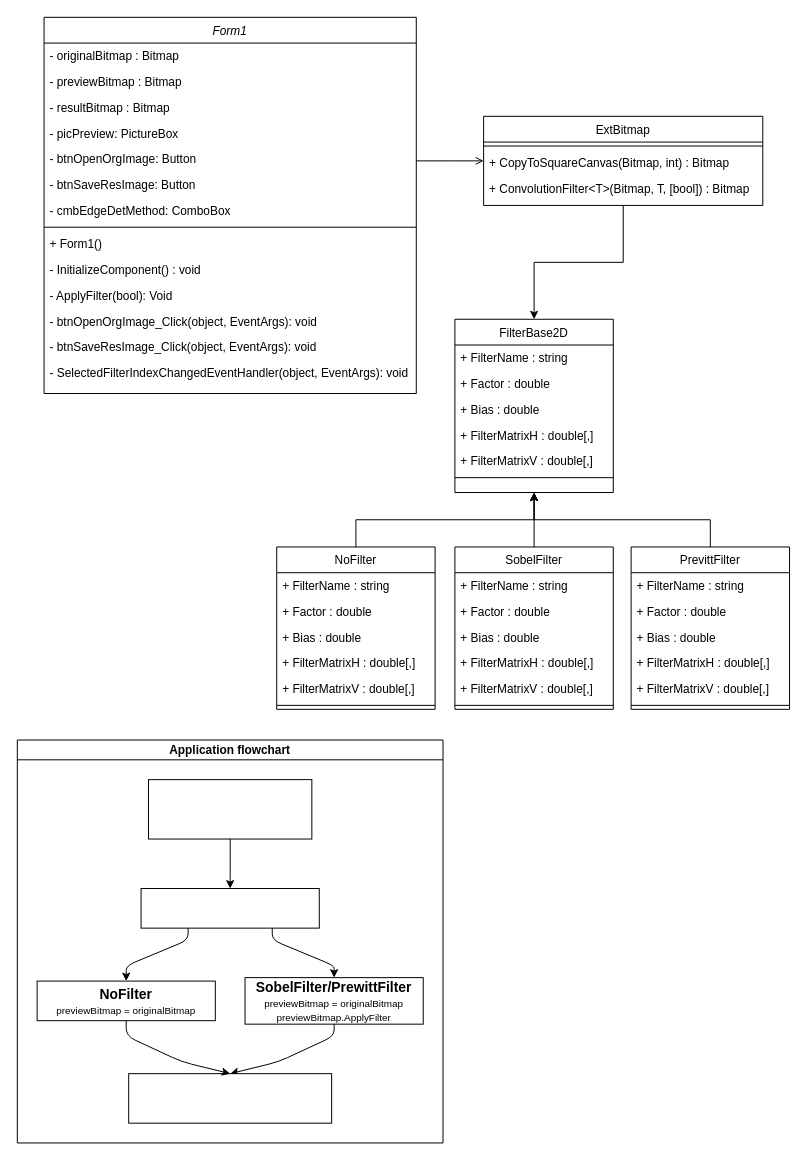
Image size: 807x1160. Some labels were removed from this diagram. Each missing label, with the centre of its shape:
Initialize originalBitmap = null previewBitmap = null resultBitmap = null: (230,809)
LoadImage originalBitmap = readFromStream: (229,908)
SaveImage resultBitmap = originalBitmap.ApplyFilter save 'resultBitmap' to disk: (230,1098)
